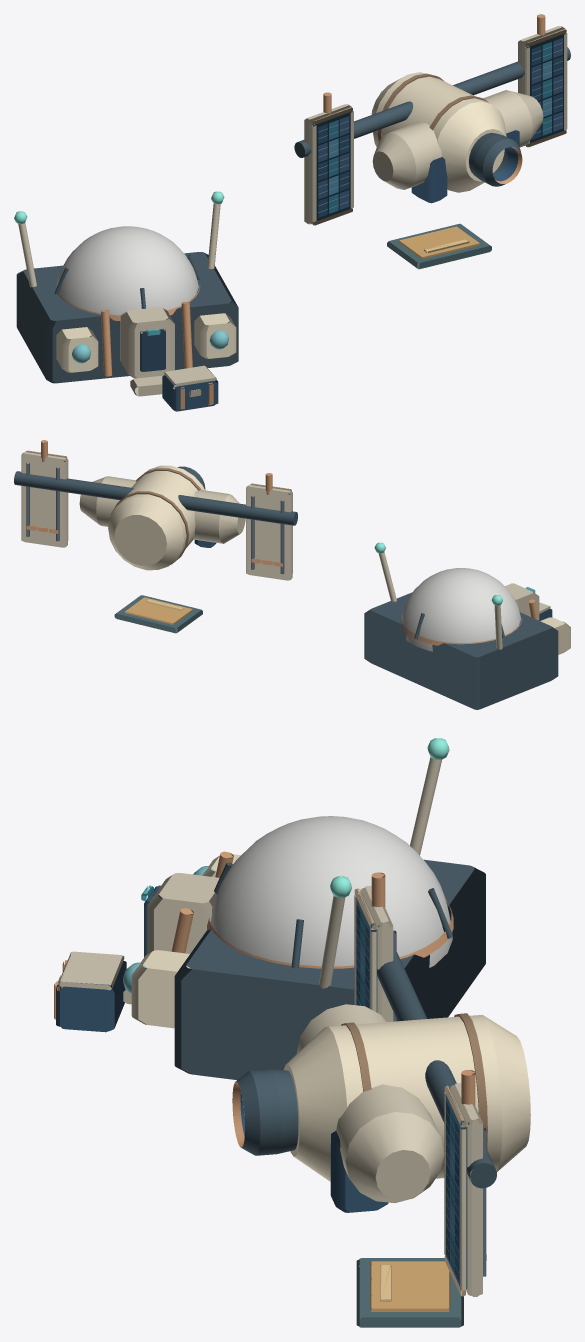
The model's file is estacion.obj.
3 renders of one model, top to bottom at view 1: azimuth 30°, elevation 25°; view 2: azimuth 150°, elevation 25°; view 3: azimuth 270°, elevation 25°, orthographic. The views are drawn at different scales.
Parts seen in each view (by area): view 1: estacion; view 2: estacion; view 3: estacion.
Part boxes in pixels (x1=…): estacion: x1=14, y1=14, x2=570, y2=411; estacion: x1=14, y1=440, x2=570, y2=709; estacion: x1=54, y1=738, x2=530, y2=1327.
Size of the model in its own units: 1.75 by 0.5521 by 0.7383.
